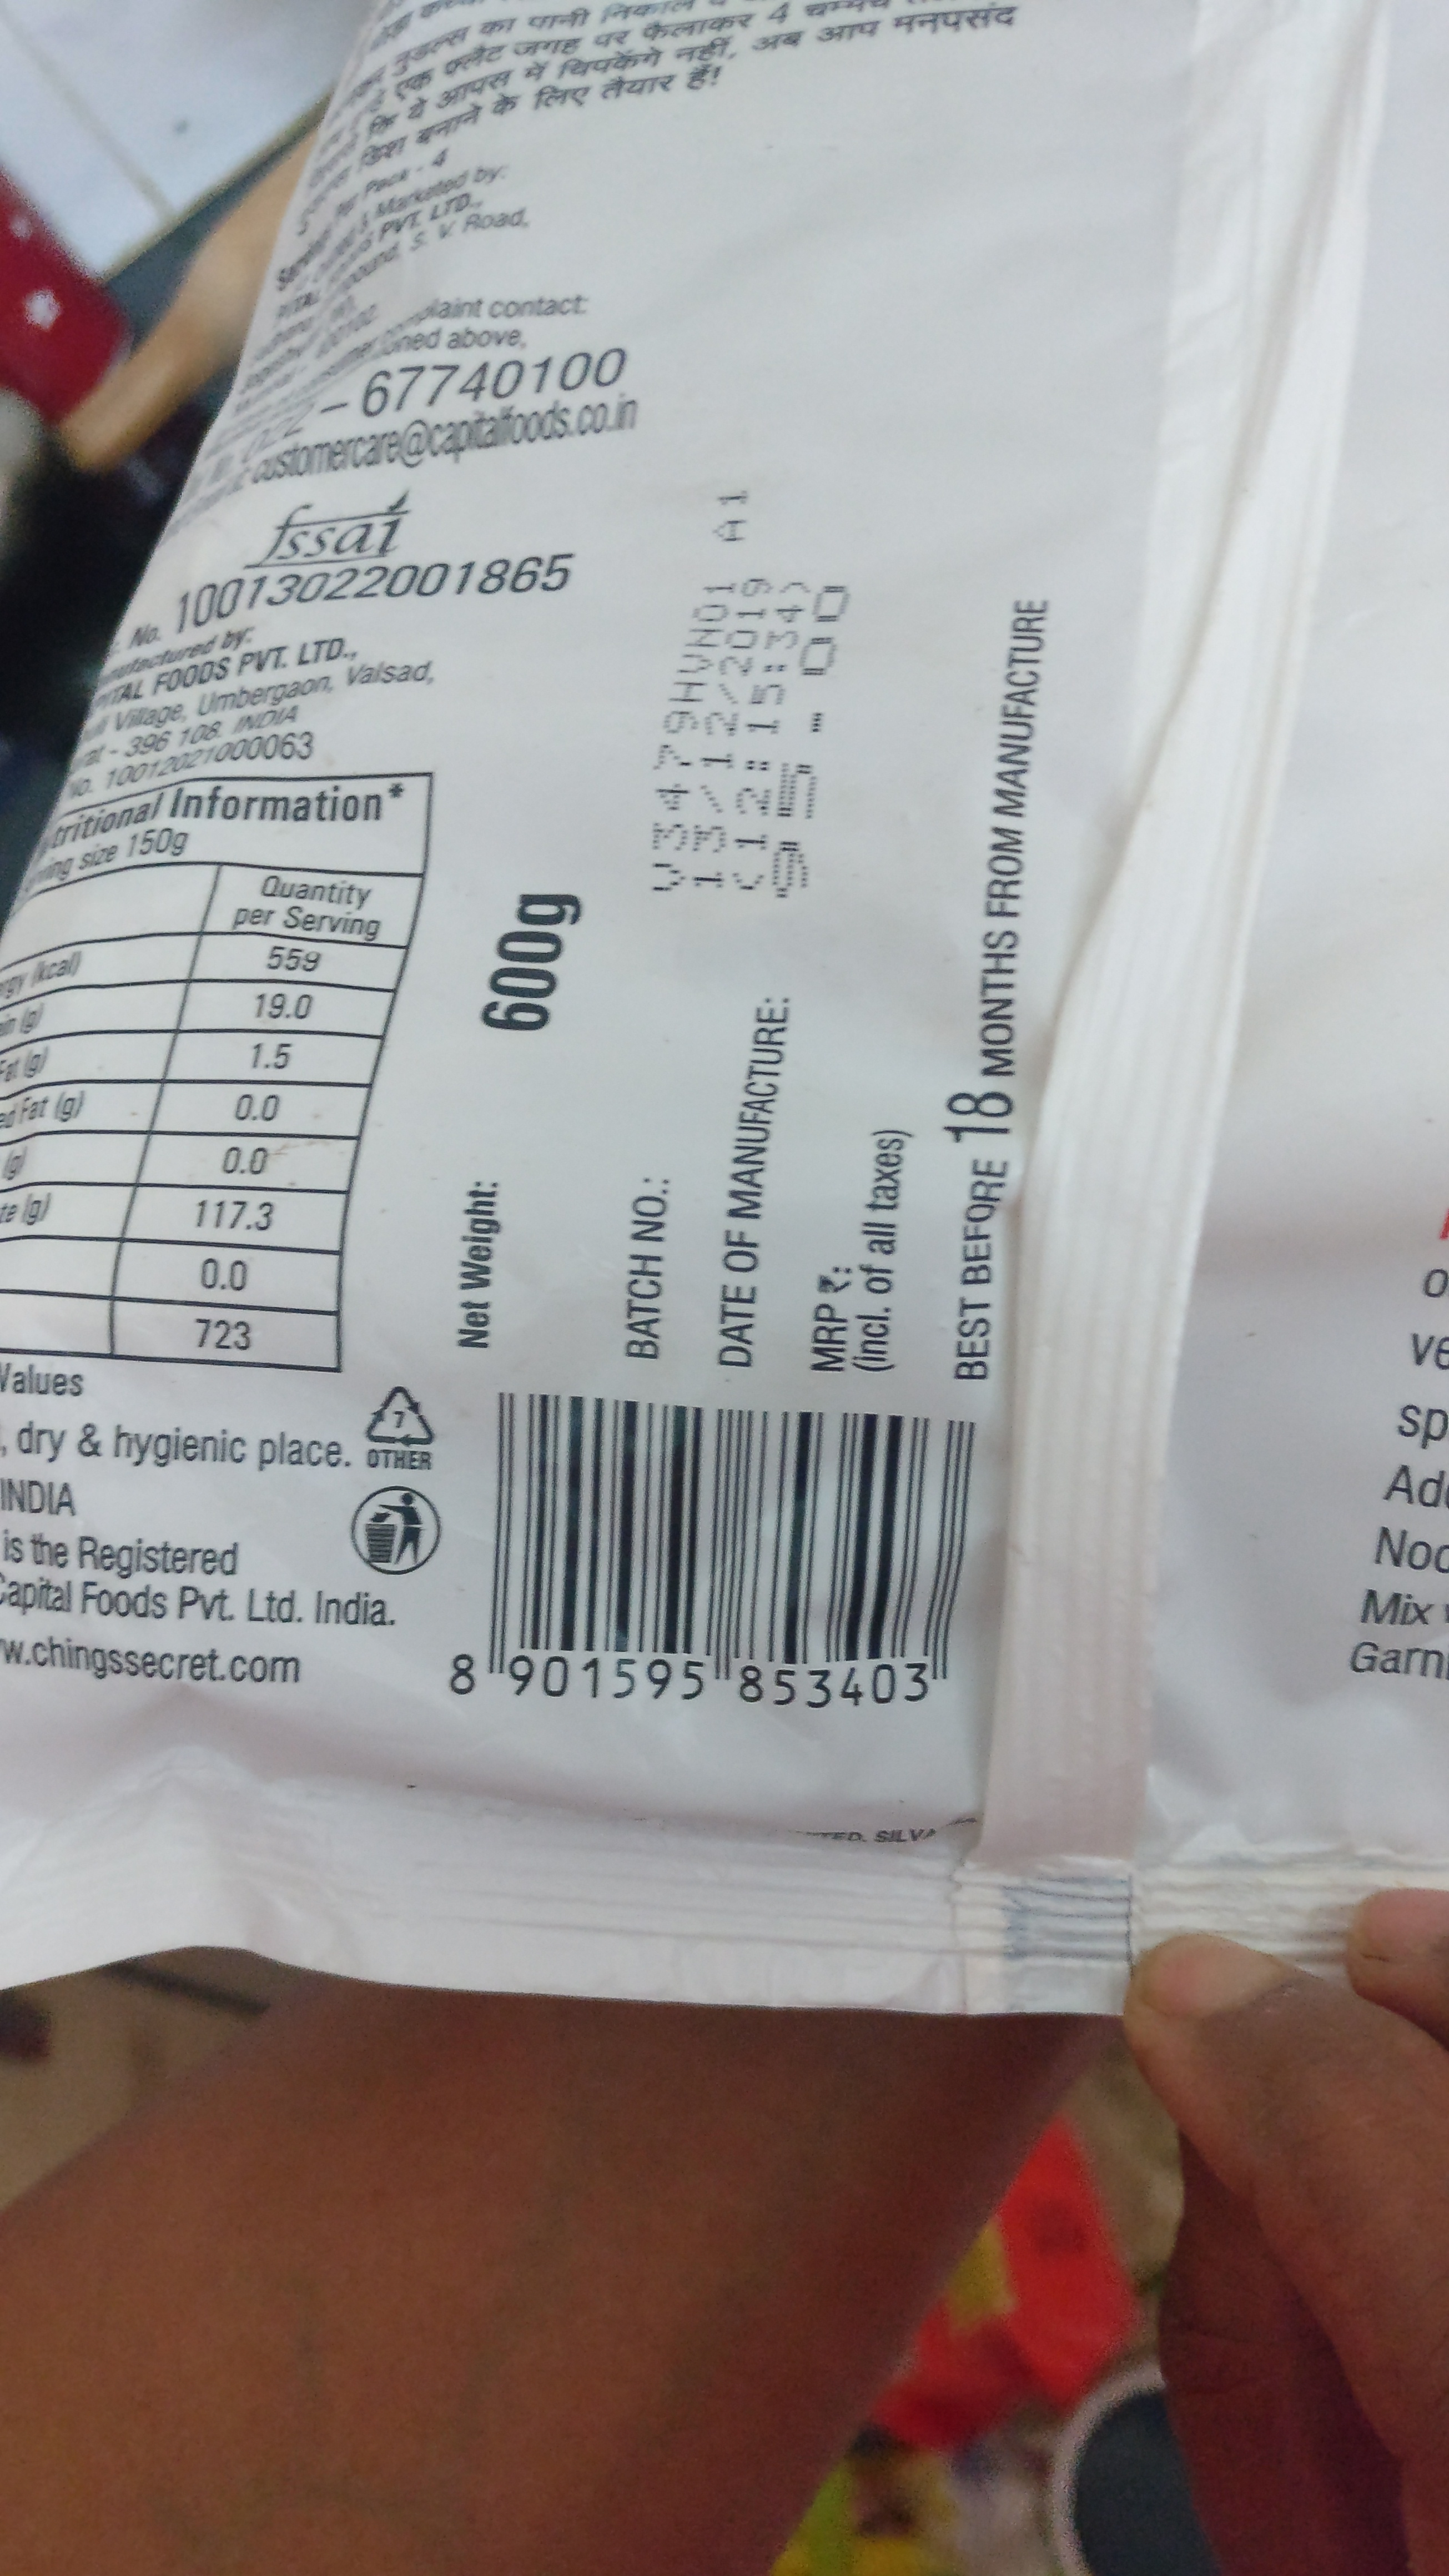barcode: (448, 1371, 993, 1752)
